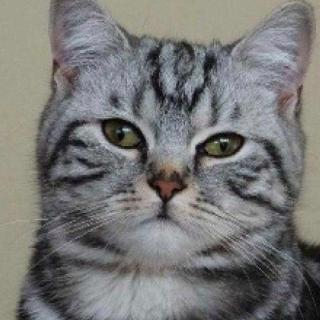cat: (42, 0, 313, 277)
nose: (144, 160, 195, 210)
